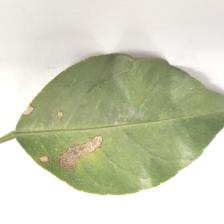canker: (20, 103, 105, 170)
